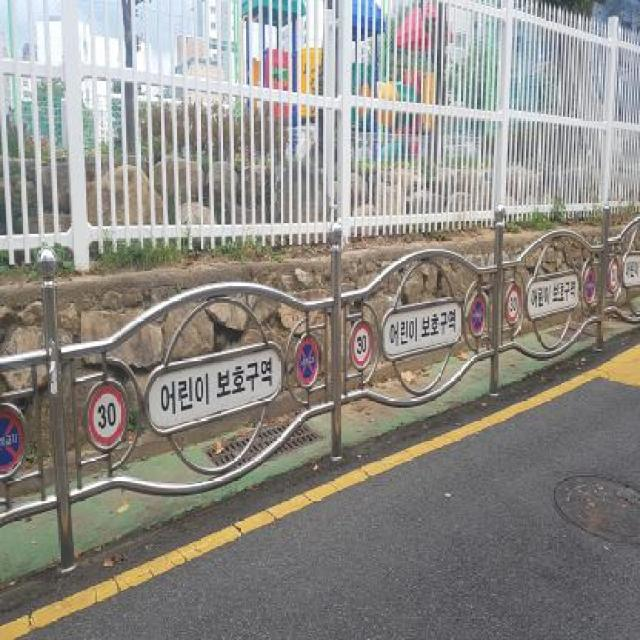fence: (17, 246, 370, 530), (406, 160, 634, 438), (391, 0, 638, 204)
